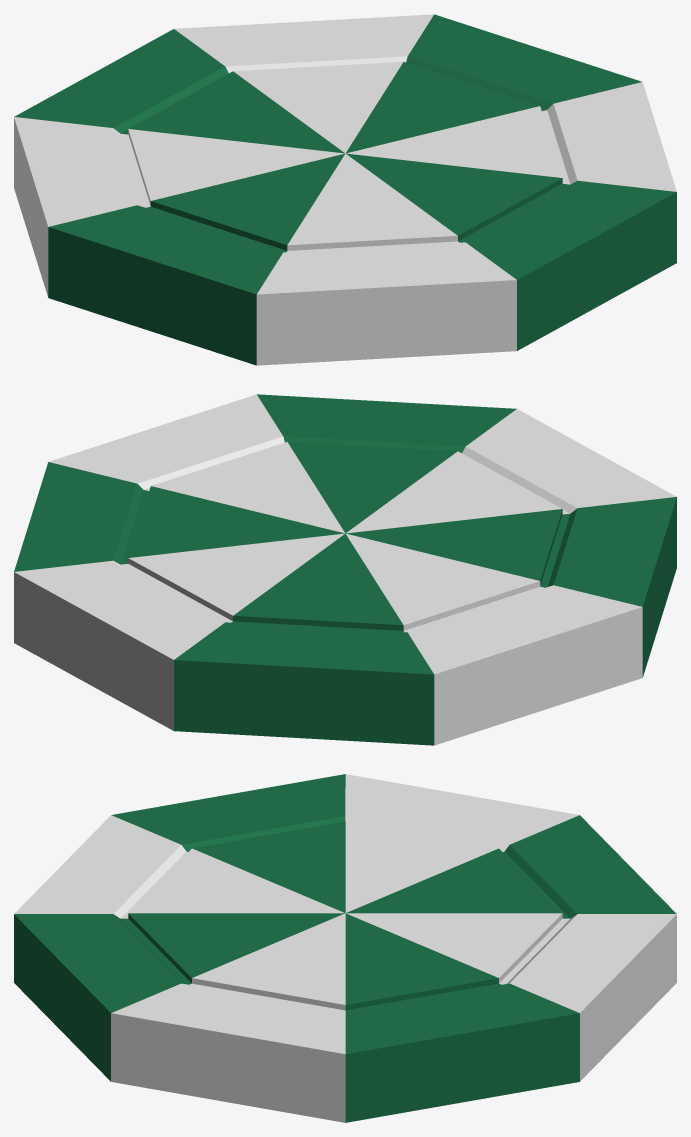
The model's file is Poker_Chip_Green.fbx.
The picture shows the model from 3 angles, top to bottom: view 1: azimuth 30°, elevation 25°; view 2: azimuth 150°, elevation 25°; view 3: azimuth 270°, elevation 25°; orthographic projection. The views are drawn at different scales.
Visible parts, largest first — view 1: Base_Mesh_Poker_Chip_Green; view 2: Base_Mesh_Poker_Chip_Green; view 3: Base_Mesh_Poker_Chip_Green.
Boxes of the visible parts, x1,y1,x2,y2 form: Base_Mesh_Poker_Chip_Green: (14, 14, 676, 365); Base_Mesh_Poker_Chip_Green: (14, 394, 676, 745); Base_Mesh_Poker_Chip_Green: (14, 774, 676, 1122).
Size of the model in its own units: 6.6 by 0.7888 by 6.6.
